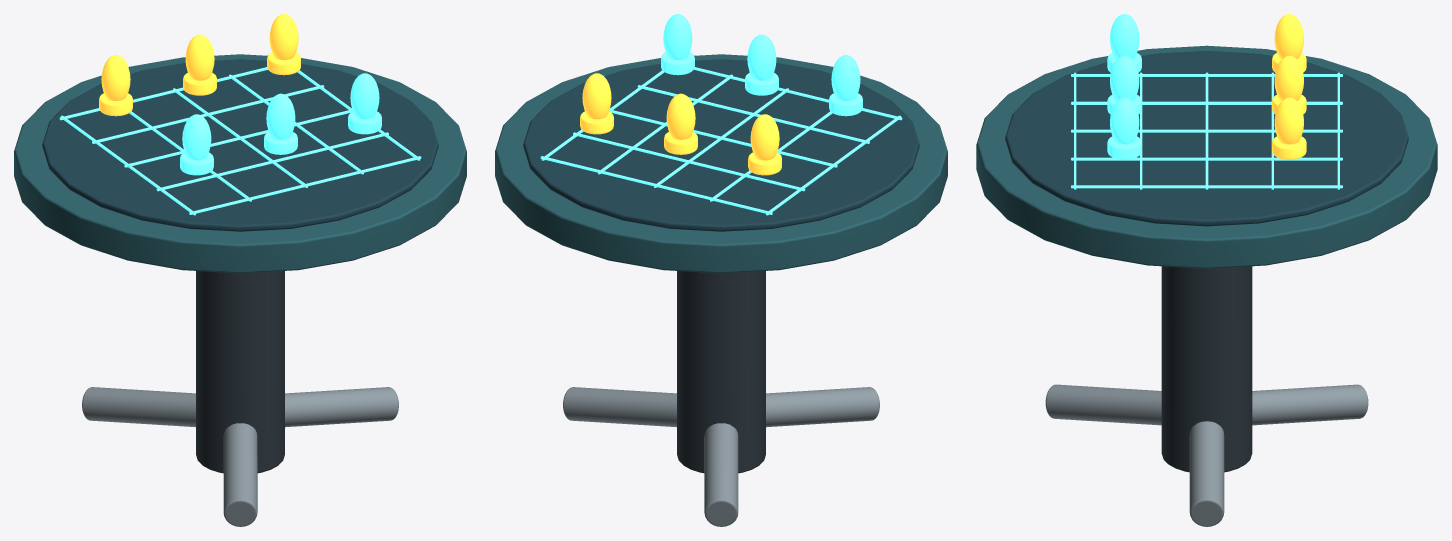
The model's file is holo_table.glb.
3 renders of one model, left to right at view 1: azimuth 30°, elevation 25°; view 2: azimuth 150°, elevation 25°; view 3: azimuth 270°, elevation 25°, orthographic.
Parts seen in each view (by area): view 1: HoloTable_mesh, HoloPiece_0_mesh, HoloPiece_1_mesh, HoloPiece_2_mesh, HoloPiece_4_mesh, HoloPiece_5_mesh, HoloPiece_3_mesh; view 2: HoloTable_mesh, HoloPiece_3_mesh, HoloPiece_1_mesh, HoloPiece_4_mesh, HoloPiece_5_mesh, HoloPiece_2_mesh, HoloPiece_0_mesh; view 3: HoloTable_mesh, HoloPiece_2_mesh, HoloPiece_5_mesh, HoloPiece_1_mesh, HoloPiece_4_mesh, HoloPiece_0_mesh, HoloPiece_3_mesh.
Boxes of the visible parts, x1,y1,x2,y2 form: HoloTable_mesh: [14, 54, 466, 526]; HoloPiece_0_mesh: [180, 114, 213, 175]; HoloPiece_1_mesh: [264, 93, 297, 154]; HoloPiece_2_mesh: [348, 73, 381, 134]; HoloPiece_4_mesh: [183, 34, 216, 95]; HoloPiece_5_mesh: [267, 14, 300, 75]; HoloPiece_3_mesh: [99, 55, 132, 116]; HoloTable_mesh: [495, 54, 947, 526]; HoloPiece_3_mesh: [748, 114, 781, 175]; HoloPiece_1_mesh: [745, 34, 778, 95]; HoloPiece_4_mesh: [664, 93, 697, 154]; HoloPiece_5_mesh: [580, 73, 613, 134]; HoloPiece_2_mesh: [661, 14, 694, 75]; HoloPiece_0_mesh: [829, 55, 862, 116]; HoloTable_mesh: [976, 45, 1437, 526]; HoloPiece_2_mesh: [1107, 97, 1141, 159]; HoloPiece_5_mesh: [1272, 97, 1306, 159]; HoloPiece_1_mesh: [1107, 55, 1141, 114]; HoloPiece_4_mesh: [1272, 55, 1306, 114]; HoloPiece_0_mesh: [1107, 14, 1141, 72]; HoloPiece_3_mesh: [1272, 14, 1306, 72].
Size of the model in its own units: 1.12 by 1.07 by 1.12.
